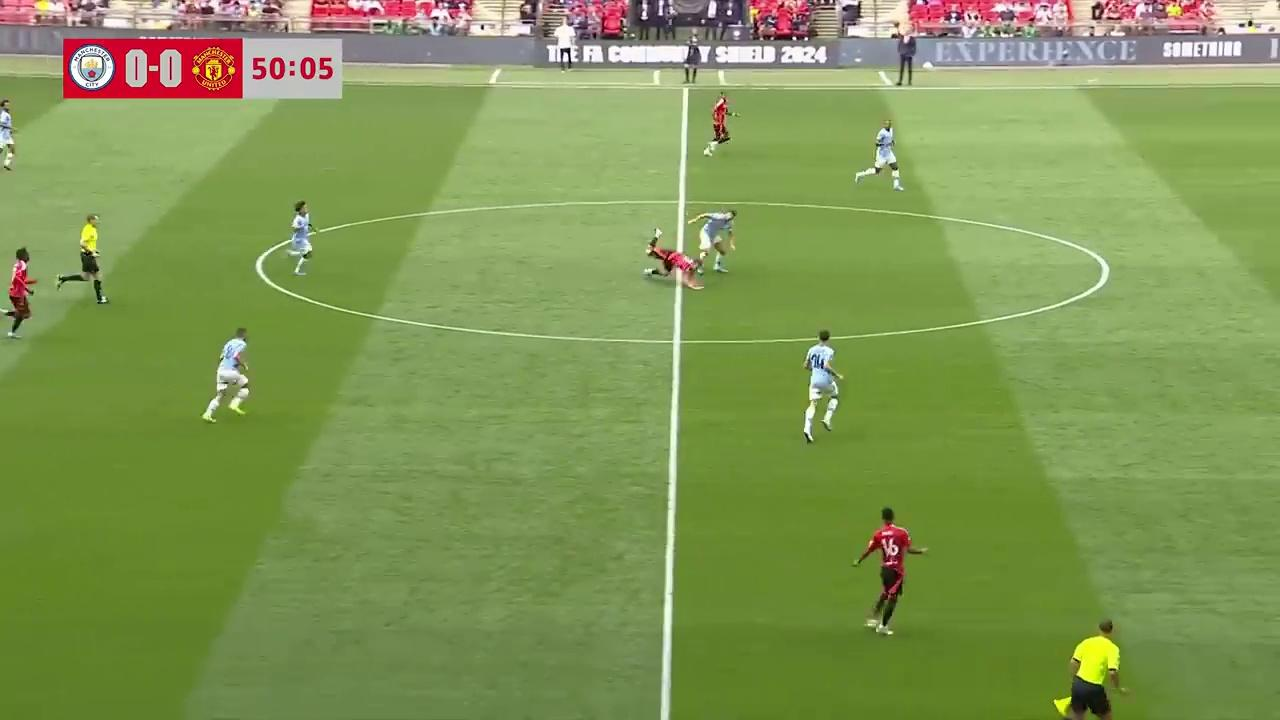player: (852, 506, 929, 638), (201, 327, 250, 421), (802, 329, 842, 443), (685, 207, 736, 282), (856, 120, 904, 191), (643, 226, 697, 288), (4, 247, 37, 339), (704, 94, 736, 157), (290, 201, 314, 276), (0, 100, 16, 172)
referee: (1052, 619, 1130, 720), (58, 214, 108, 304)
